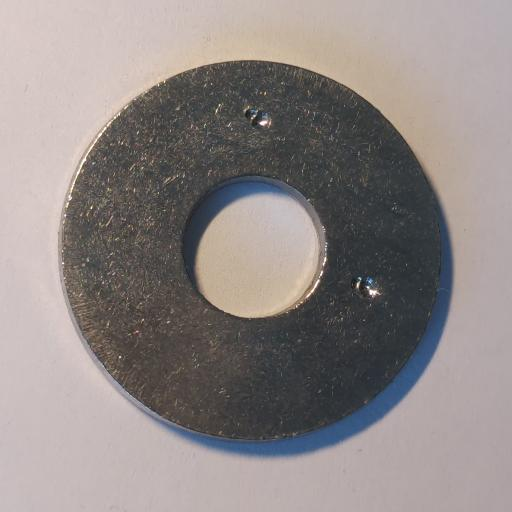circular_cavity: (243, 104, 273, 131), (351, 274, 381, 301)
